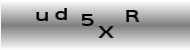5: (80, 13, 94, 27)
R: (124, 9, 140, 22)
X: (97, 25, 115, 40)
d: (54, 7, 68, 21)
u: (35, 11, 50, 23)
